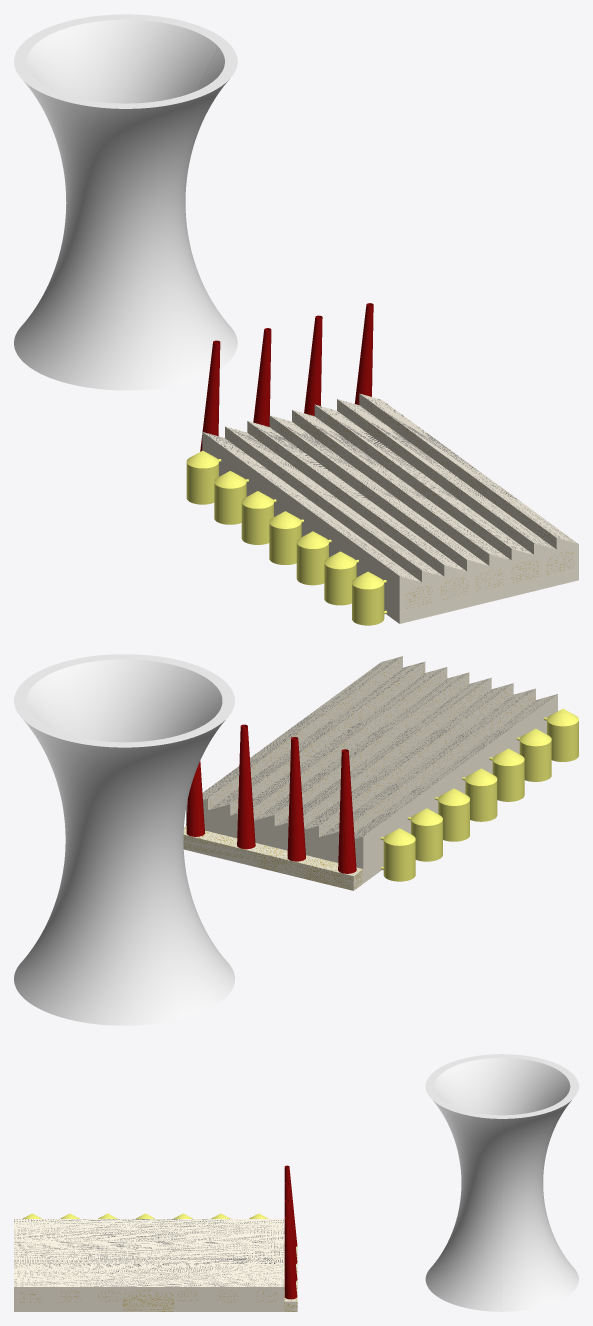
File: industry.fbx
The picture shows the model from 3 angles, top to bottom: view 1: azimuth 30°, elevation 25°; view 2: azimuth 150°, elevation 25°; view 3: azimuth 270°, elevation 25°; orthographic projection. The views are drawn at different scales.
Visible parts, largest first — view 1: group_8.003; view 2: group_8.003; view 3: group_8.003.
Boxes of the visible parts, box(x1,y1,x2,y2) form: group_8.003: box(14, 14, 578, 625); group_8.003: box(14, 654, 578, 1025); group_8.003: box(14, 1054, 578, 1311).
Size of the model in its own units: 3776 by 4800 by 12739.
